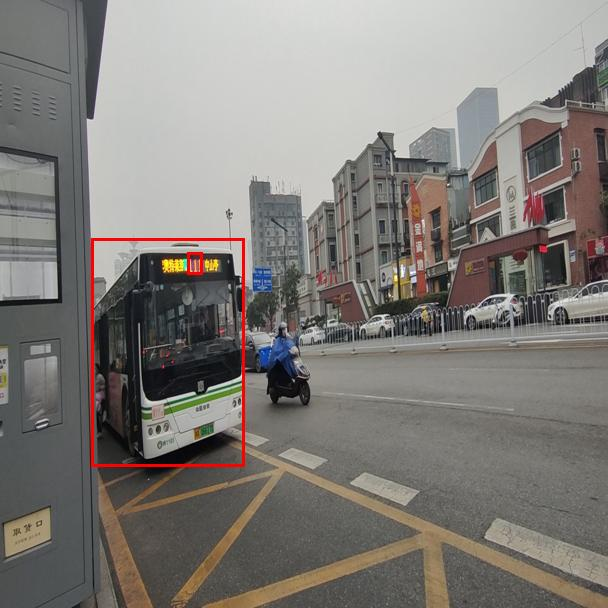bus: (91, 238, 244, 466)
screen: (187, 252, 202, 274)
